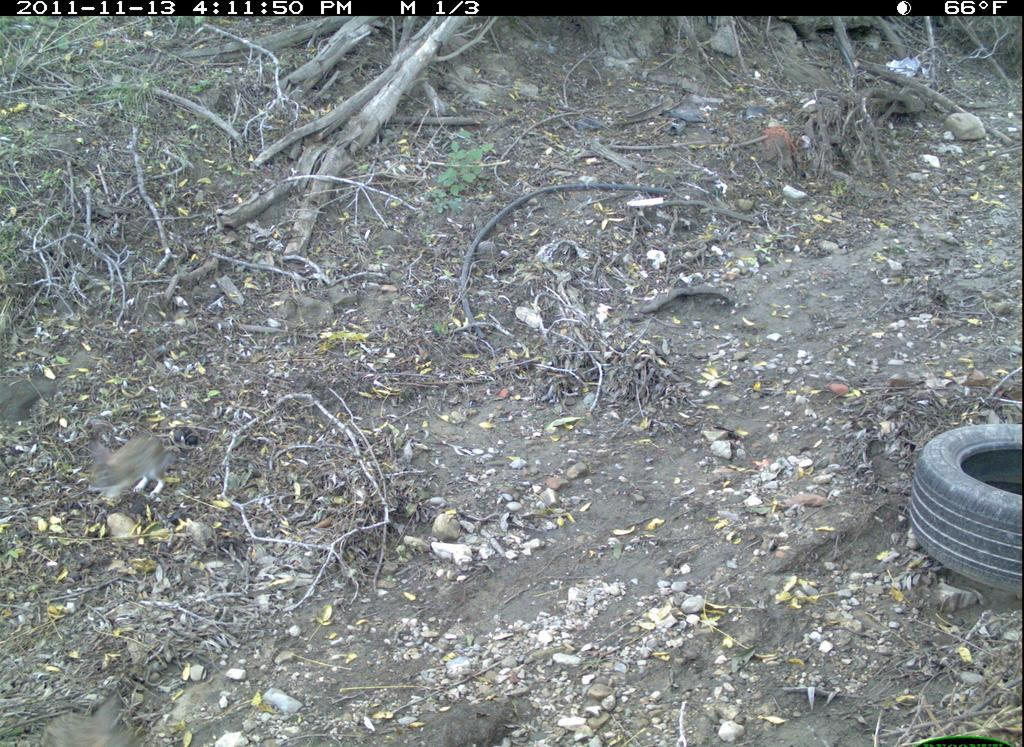rabbit: (79, 421, 181, 516)
